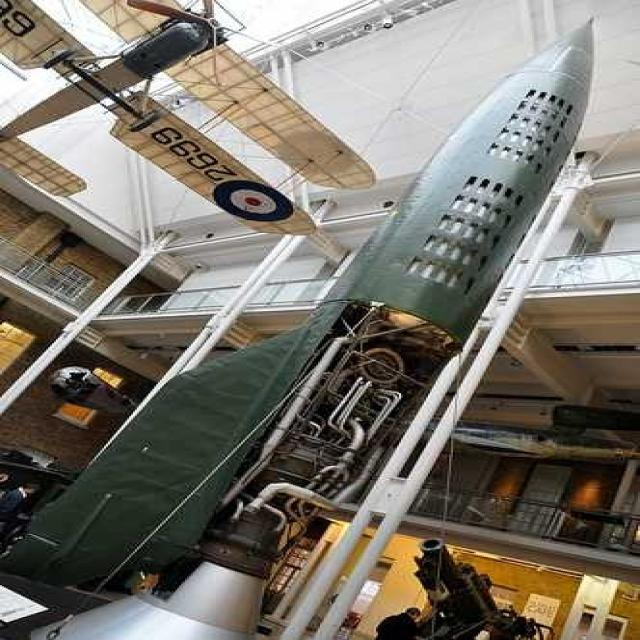missile: (24, 21, 603, 613)
